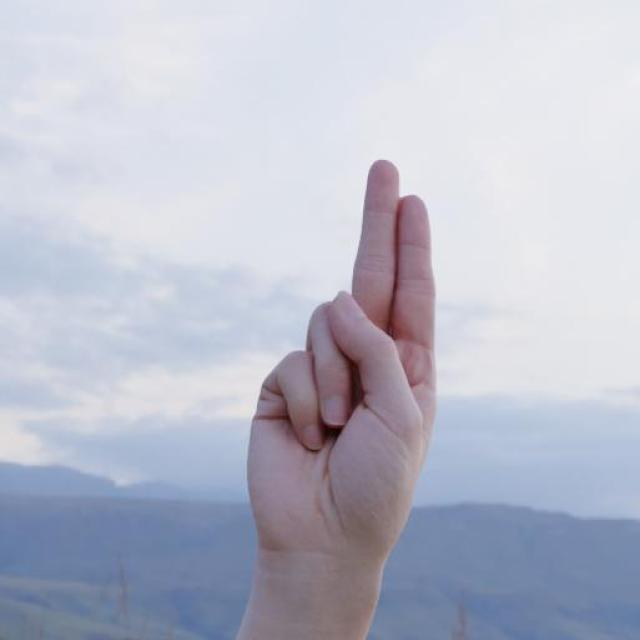U: (240, 151, 442, 563)
